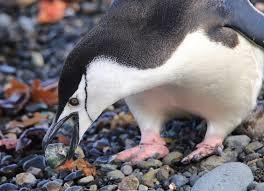chinstrap: (43, 0, 264, 168)
